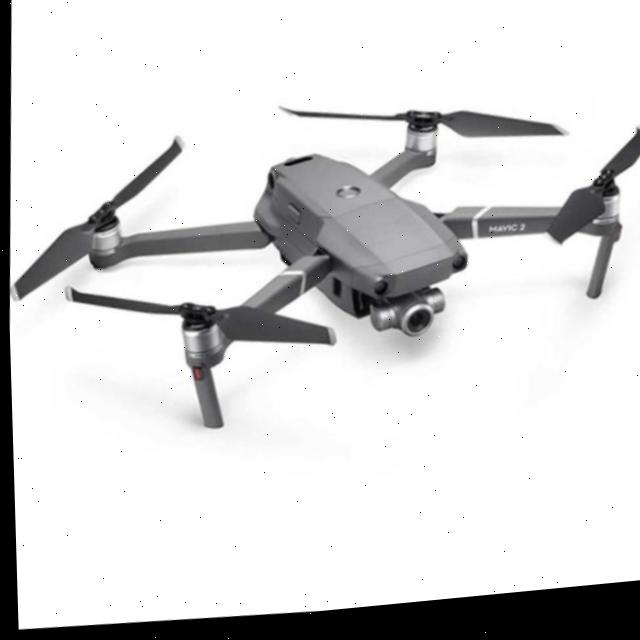drones: (3, 61, 640, 481)
